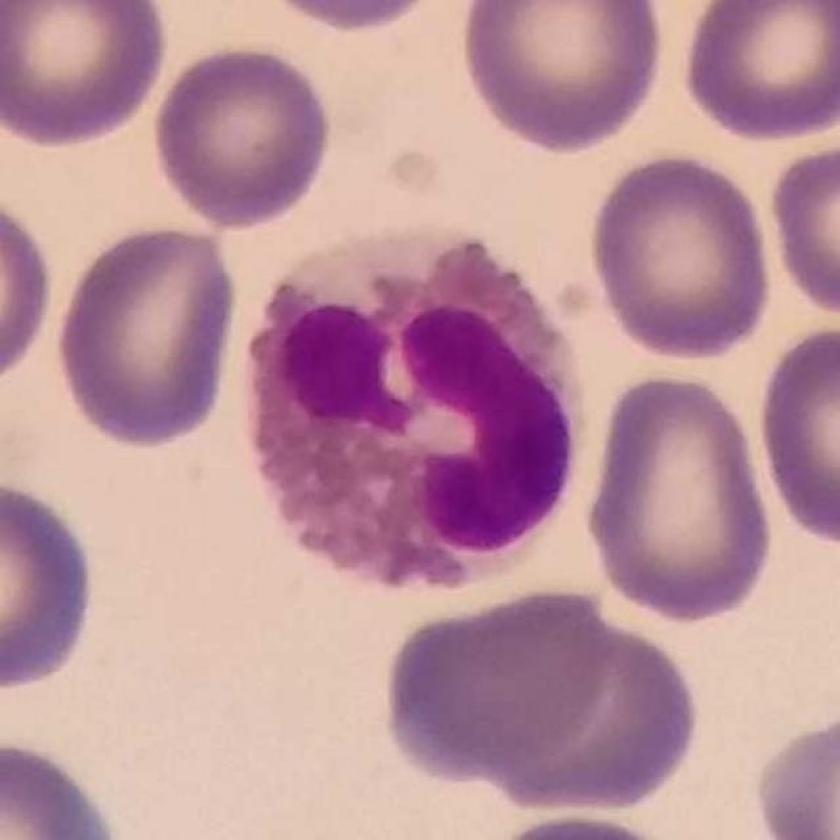eosinophil: (249, 227, 588, 593)
